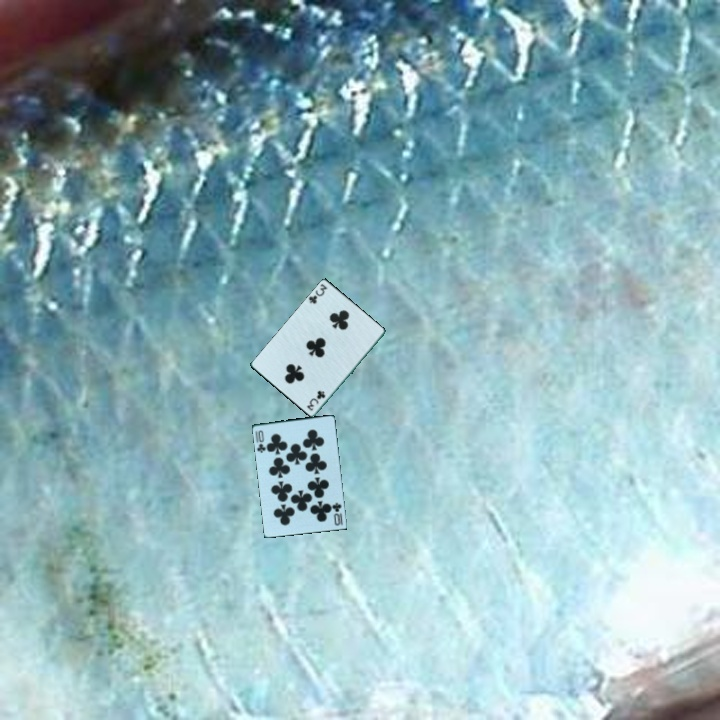10c: (330, 499, 345, 528), (253, 427, 268, 455)
3c: (305, 280, 330, 306), (304, 387, 328, 414)
